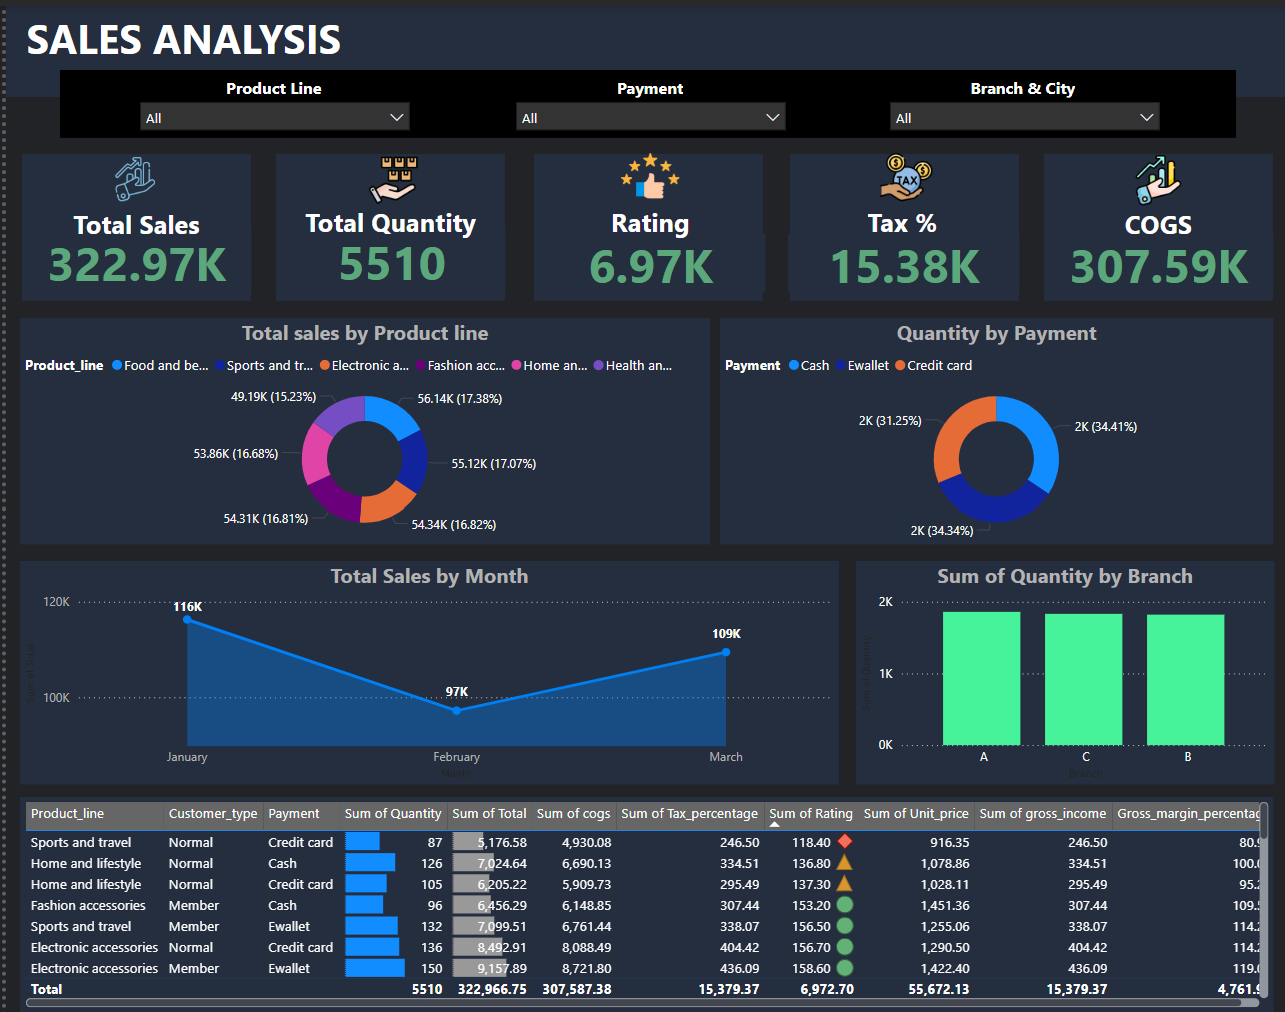

The dashboard page shown, as its layout file describes it:
{"tool":"powerbi","page":{"name":"Dashboard 1","canvas":[1280,1000],"ordinal":0},"visuals":[{"type":"shape","box":[1031.9,146.2,227.8,146.2],"z":0},{"type":"shape","box":[778.6,146.2,227.8,146.2],"z":1000},{"type":"shape","box":[525.3,146.2,227.8,146.2],"z":2000},{"type":"shape","box":[268.6,146.2,227.8,146.2],"z":3000},{"type":"shape","box":[15.3,146.2,227.8,146.2],"z":4000},{"type":"shape","box":[0,0,1280.2,90.7],"z":5000},{"type":"actionButton","box":[14.4,0,325.4,63.4],"z":6000},{"type":"shape","box":[53.3,63.4,1172.2,67.7],"z":7000},{"type":"slicer","fields":{"Values":["supermarket_sales - Sheet1.Product_line"]},"box":[122.4,85,288,40.3],"z":8000},{"type":"slicer","fields":{"Values":["supermarket_sales - Sheet1.Payment"]},"box":[496.8,85,288,43.2],"z":9000},{"type":"slicer","fields":{"Values":["supermarket_sales - Sheet1.Date","supermarket_sales - Sheet1.Date.Variation.Date Hierarchy.Month"]},"box":[868.3,85,288,40.3],"z":10000},{"type":"actionButton","box":[203,64.8,126.7,27.4],"z":11000},{"type":"actionButton","box":[580.3,64.8,119.5,27.4],"z":12000},{"type":"actionButton","box":[941.8,64.8,136.8,27.4],"z":13000},{"type":"card","fields":{"Values":["Sum(supermarket_sales - Sheet1.Total)"]},"box":[16,222,228,62],"z":14000},{"type":"card","fields":{"Values":["Sum(supermarket_sales - Sheet1.Quantity)"]},"box":[270,220,226,64],"z":15000},{"type":"card","fields":{"Values":["Sum(supermarket_sales - Sheet1.Rating)"]},"box":[526,226,228,58],"z":16000},{"type":"card","fields":{"Values":["Sum(supermarket_sales - Sheet1.Tax_percentage)"]},"box":[778,226,230,58],"z":17000},{"type":"card","fields":{"Values":["Sum(supermarket_sales - Sheet1.cogs)"]},"box":[1032,226,228,58],"z":18000},{"type":"donutChart","title":"Total sales  by Product line","fields":{"Y":["Sum(supermarket_sales - Sheet1.Total)"],"Category":["supermarket_sales - Sheet1.Product_line"]},"box":[14,310,686,224],"z":19000},{"type":"donutChart","title":"Quantity by Payment","fields":{"Category":["supermarket_sales - Sheet1.Payment"],"Y":["Sum(supermarket_sales - Sheet1.Quantity)"]},"box":[710,310,550,224],"z":20000},{"type":"areaChart","title":"Total Sales by Month","fields":{"Category":["supermarket_sales - Sheet1.Date.Variation.Date Hierarchy.Month"],"Y":["Sum(supermarket_sales - Sheet1.Total)"]},"box":[14,550,814,222],"z":21000},{"type":"clusteredColumnChart","fields":{"Y":["Sum(supermarket_sales - Sheet1.Quantity)"],"Category":["supermarket_sales - Sheet1.Branch"]},"box":[844,550,416,222],"z":22000},{"type":"tableEx","fields":{"Values":["supermarket_sales - Sheet1.Product_line","supermarket_sales - Sheet1.Customer_type","supermarket_sales - Sheet1.Payment","Sum(supermarket_sales - Sheet1.Quantity)","Sum(supermarket_sales - Sheet1.Total)","Sum(supermarket_sales - Sheet1.cogs)","Sum(supermarket_sales - Sheet1.Tax_percentage)","Sum(supermarket_sales - Sheet1.Rating)","Sum(supermarket_sales - Sheet1.Unit_price)","Sum(supermarket_sales - Sheet1.gross_income)","Sum(supermarket_sales - Sheet1.gross_margin_percentage)"]},"box":[14,786,1246,214],"z":23000},{"type":"actionButton","box":[56,194,148,38],"z":24000},{"type":"actionButton","box":[278,192,208,38],"z":25000},{"type":"actionButton","box":[566,192,148,38],"z":26000},{"type":"actionButton","box":[818,192,148,42],"z":27000},{"type":"actionButton","box":[1072,194,148,42],"z":28000},{"type":"image","box":[94,146,74,54],"z":29000},{"type":"image","box":[338,144,94,60],"z":30000},{"type":"image","box":[588,132,104,74],"z":31000},{"type":"image","box":[844,140,100,62],"z":32000},{"type":"image","box":[1080,144,132,60],"z":33000}]}

Visuals, with their boxes in screenshot pixels (x1, y1, x2, y2), scaled from the page's 1280x1000 canvas onto the 1285x1012 screenshot:
shape: bbox=[1036, 148, 1265, 296]
shape: bbox=[782, 148, 1010, 296]
shape: bbox=[527, 148, 756, 296]
shape: bbox=[270, 148, 498, 296]
shape: bbox=[15, 148, 244, 296]
shape: bbox=[0, 0, 1284, 92]
actionButton: bbox=[14, 0, 341, 64]
shape: bbox=[54, 64, 1230, 133]
slicer - supermarket_sales - Sheet1.Product_line: bbox=[123, 86, 412, 127]
slicer - supermarket_sales - Sheet1.Payment: bbox=[499, 86, 788, 130]
slicer - supermarket_sales - Sheet1.Date x supermarket_sales - Sheet1.Date.Variation.Date Hierarchy.Month: bbox=[872, 86, 1161, 127]
actionButton: bbox=[204, 66, 331, 93]
actionButton: bbox=[583, 66, 703, 93]
actionButton: bbox=[945, 66, 1083, 93]
card - Sum(supermarket_sales - Sheet1.Total): bbox=[16, 225, 245, 287]
card - Sum(supermarket_sales - Sheet1.Quantity): bbox=[271, 223, 498, 287]
card - Sum(supermarket_sales - Sheet1.Rating): bbox=[528, 229, 757, 287]
card - Sum(supermarket_sales - Sheet1.Tax_percentage): bbox=[781, 229, 1012, 287]
card - Sum(supermarket_sales - Sheet1.cogs): bbox=[1036, 229, 1265, 287]
"Total sales  by Product line" donutChart: bbox=[14, 314, 703, 540]
"Quantity by Payment" donutChart: bbox=[713, 314, 1265, 540]
"Total Sales by Month" areaChart: bbox=[14, 557, 831, 781]
clusteredColumnChart - Sum(supermarket_sales - Sheet1.Quantity) x supermarket_sales - Sheet1.Branch: bbox=[847, 557, 1265, 781]
tableEx - supermarket_sales - Sheet1.Product_line x supermarket_sales - Sheet1.Customer_type: bbox=[14, 795, 1265, 1011]
actionButton: bbox=[56, 196, 205, 235]
actionButton: bbox=[279, 194, 488, 233]
actionButton: bbox=[568, 194, 717, 233]
actionButton: bbox=[821, 194, 970, 237]
actionButton: bbox=[1076, 196, 1225, 239]
image: bbox=[94, 148, 169, 202]
image: bbox=[339, 146, 434, 206]
image: bbox=[590, 134, 695, 208]
image: bbox=[847, 142, 948, 204]
image: bbox=[1084, 146, 1217, 206]
